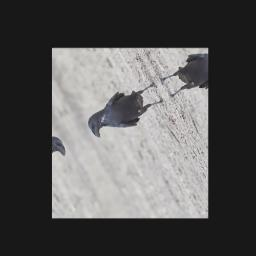Crow: (79, 74, 170, 146)
